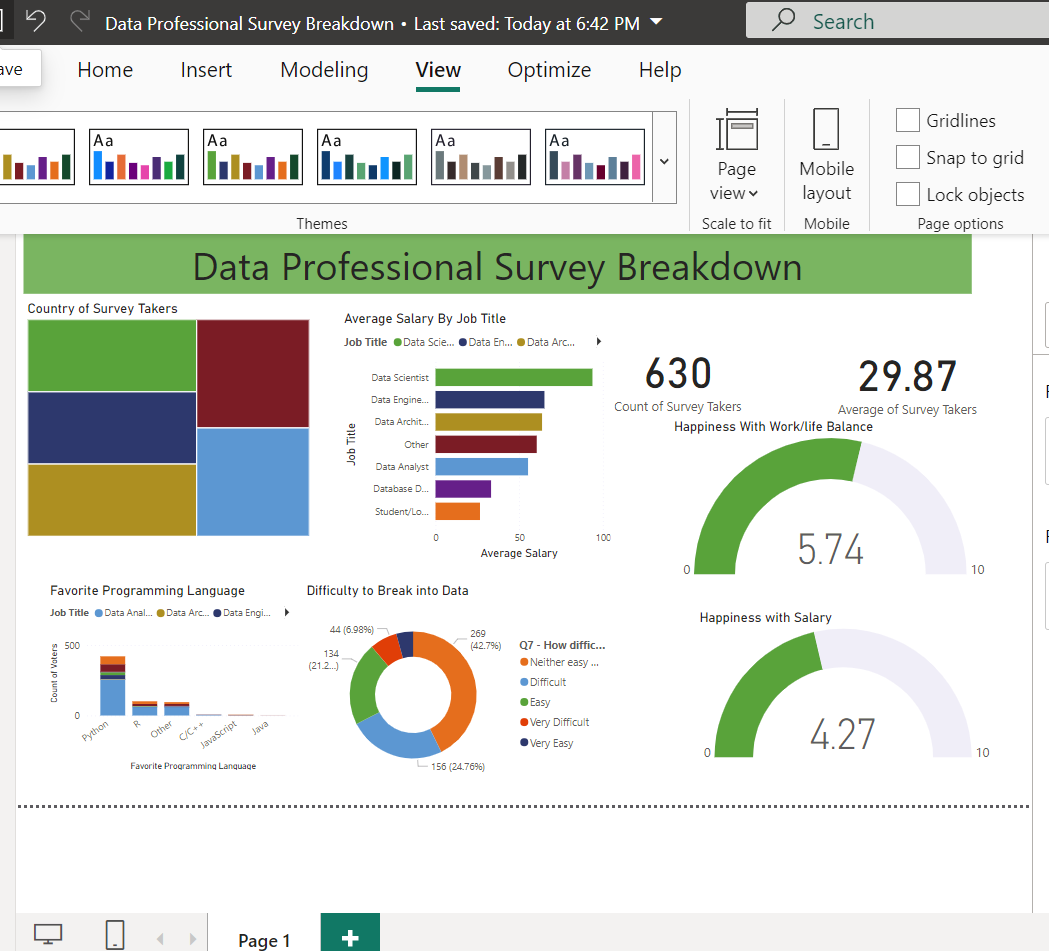

Layout of this report page (visuals, bound fields, positions):
{"tool":"powerbi","page":{"name":"Page 1","canvas":[1280,720],"ordinal":0},"visuals":[{"type":"textbox","box":[9.4,0,1194.3,75.6],"z":0},{"type":"card","fields":{"Values":["CountNonNull(Data Professional Survey.Unique ID)"]},"box":[697.3,96.4,272.1,164.4],"z":1000},{"type":"card","fields":{"Values":["Avg(Data Professional Survey.Q10 - Current Age)"]},"box":[995.9,103.9,253.2,156.9],"z":2000},{"type":"barChart","title":"Average Salary By Job Title","fields":{"Category":["Data Professional Survey.Q1 - Which Title Best Fits your Current Role?.1"],"Y":["Avg(Data Professional Survey.Average Salary)"],"Series":["Data Professional Survey.Q1 - Which Title Best Fits your Current Role?.1"]},"box":[408.2,96.4,345.8,317.5],"z":3000},{"type":"columnChart","title":"Favorite Programming Language","fields":{"Category":["Data Professional Survey.Q5 - Favorite Programming Language.1"],"Y":["CountNonNull(Data Professional Survey.Unique ID)"],"Series":["Data Professional Survey.Q1 - Which Title Best Fits your Current Role?.1"]},"box":[37.8,438.4,323.2,241.9],"z":3001},{"type":"treemap","title":"Country of Survey Takers","fields":{"Group":["Data Professional Survey.Q11 - Which Country do you live in?.1"],"Values":["Count(Data Professional Survey.Q11 - Which Country do you live in?.1)"]},"box":[9.4,83.2,364.7,302.4],"z":3002},{"type":"gauge","title":"Happiness With Work/life Balance","fields":{"Y":["Avg(Data Professional Survey.Q6 - How Happy are you in your Current Position with the following? (Work/Life Balance))"],"MinValue":["Min(Data Professional Survey.Q6 - How Happy are you in your Current Position with the following? (Work/Life Balance))1"],"MaxValue":["Max(Data Professional Survey.Q6 - How Happy are you in your Current Position with the following? (Work/Life Balance))2"]},"box":[823.9,232.4,412,206],"z":3003},{"type":"gauge","title":"Happiness with Salary","fields":{"Y":["Avg(Data Professional Survey.Q6 - How Happy are you in your Current Position with the following? (Salary))"],"MinValue":["Min(Data Professional Survey.Q6 - How Happy are you in your Current Position with the following? (Salary))"],"MaxValue":["Max(Data Professional Survey.Q6 - How Happy are you in your Current Position with the following? (Salary))"]},"box":[856.1,472.4,379.8,196.5],"z":3004},{"type":"donutChart","title":"Difficulty to Break into Data","fields":{"Category":["Data Professional Survey.Q7 - How difficult was it for you to break into Data?"],"Y":["CountNonNull(Data Professional Survey.Q7 - How difficult was it for you to break into Data?)"]},"box":[360.9,438.4,393.1,264.6],"z":3005}]}

Visuals, with their boxes on the page's 1280x720 design canvas (x1, y1, x2, y2). These are canvas units, not pixel positions in the 1049x951 screenshot, which may show the page scaled, cropped or inside an application window:
textbox: {"x1": 9, "y1": 0, "x2": 1204, "y2": 76}
card - CountNonNull(Data Professional Survey.Unique ID): {"x1": 697, "y1": 96, "x2": 969, "y2": 261}
card - Avg(Data Professional Survey.Q10 - Current Age): {"x1": 996, "y1": 104, "x2": 1249, "y2": 261}
"Average Salary By Job Title" barChart: {"x1": 408, "y1": 96, "x2": 754, "y2": 414}
"Favorite Programming Language" columnChart: {"x1": 38, "y1": 438, "x2": 361, "y2": 680}
"Country of Survey Takers" treemap: {"x1": 9, "y1": 83, "x2": 374, "y2": 386}
"Happiness With Work/life Balance" gauge: {"x1": 824, "y1": 232, "x2": 1236, "y2": 438}
"Happiness with Salary" gauge: {"x1": 856, "y1": 472, "x2": 1236, "y2": 669}
"Difficulty to Break into Data" donutChart: {"x1": 361, "y1": 438, "x2": 754, "y2": 703}
